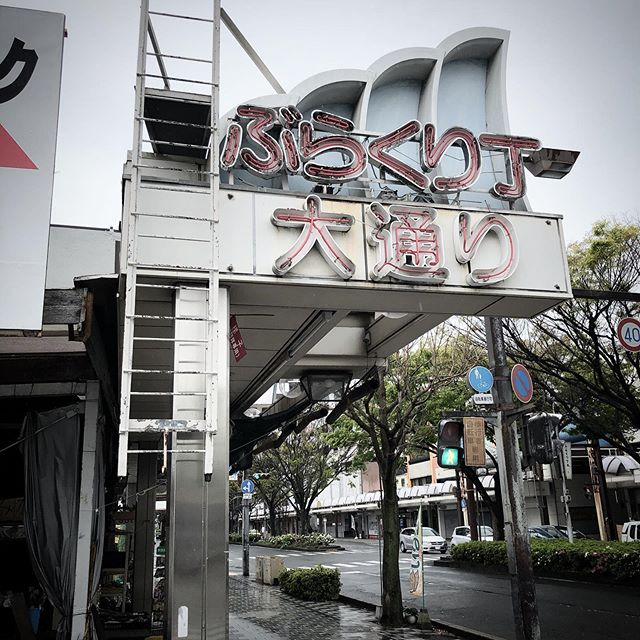sign: (127, 43, 563, 340), (466, 356, 540, 409), (609, 314, 640, 353)
street: (236, 531, 640, 640)
tree: (344, 343, 472, 617), (509, 218, 636, 462), (251, 422, 335, 526)
